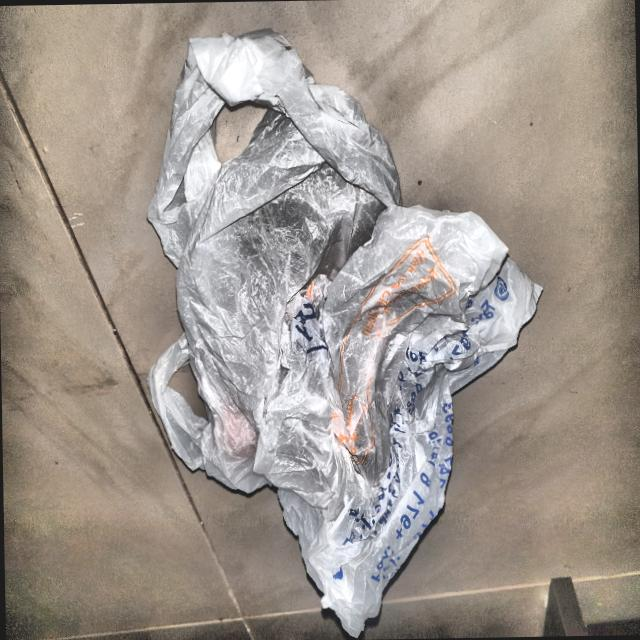plastic bag: (132, 21, 561, 640)
